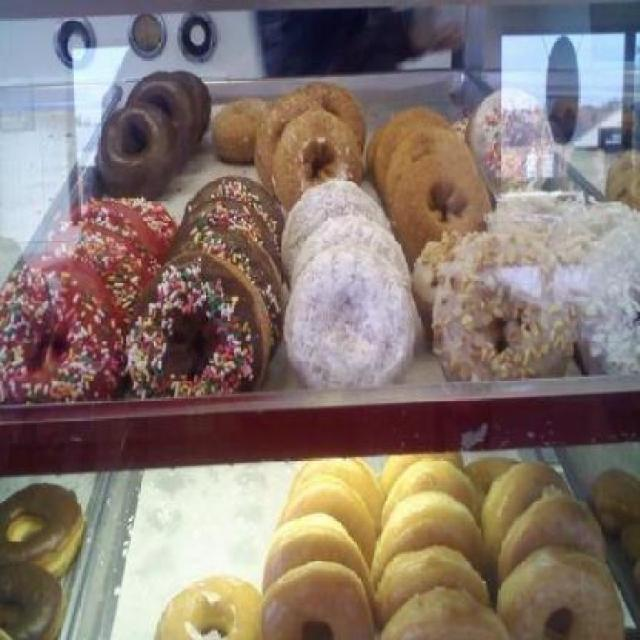Donuts: (4, 64, 638, 638)
